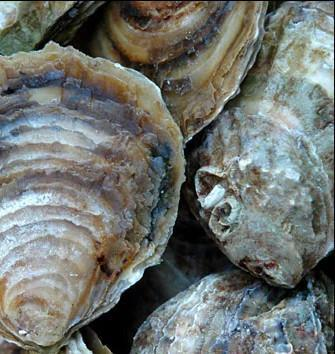3: (0, 326, 114, 354)
Oyster-Closed: (0, 0, 109, 56)
Oyster-Open: (0, 41, 186, 349), (182, 0, 335, 286), (90, 0, 270, 142), (131, 266, 335, 354), (127, 200, 238, 351)
